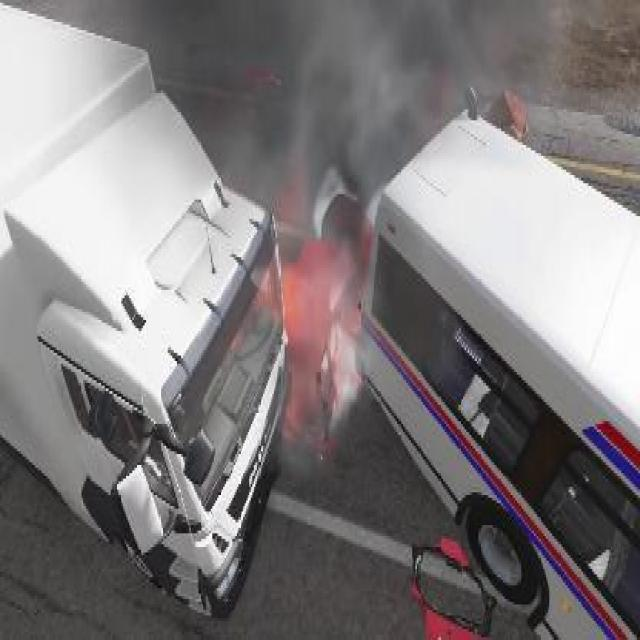accident: (0, 2, 634, 640)
